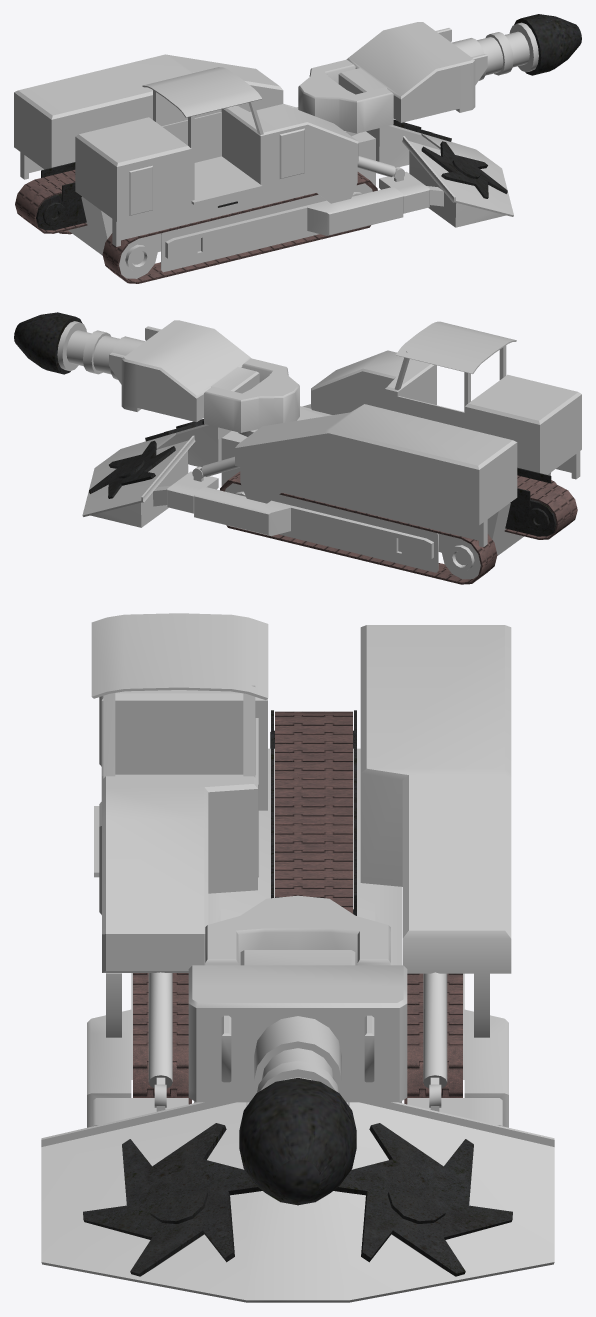
Rendered from teilschnitt_export_triangulated_LOD.dae.
3 views of the same model, one above another, from view 1: azimuth 30°, elevation 25°; view 2: azimuth 150°, elevation 25°; view 3: azimuth 270°, elevation 25° (orthographic). The views are drawn at different scales.
Parts seen in each view (by area): view 1: Body, drill_body, front_shovel, drill, drill_body_rotator, rope, shovel_gear, wheels; view 2: Body, drill_body, front_shovel, drill, drill_body_rotator, rope, shovel_gear, wheels; view 3: Body, front_shovel, drill_body, shovel_gear, drill, drill_body_rotator, rope.
Boxes of the visible parts, x1,y1,x2,y2 form: Body: (14, 54, 443, 272); drill_body: (338, 22, 487, 122); front_shovel: (366, 125, 513, 227); drill: (452, 14, 581, 80); drill_body_rotator: (296, 59, 393, 136); rope: (59, 172, 377, 283); shovel_gear: (393, 119, 507, 198); wheels: (119, 183, 372, 278); Body: (153, 321, 581, 572); drill_body: (109, 320, 259, 422); front_shovel: (82, 424, 231, 527); drill: (14, 312, 144, 379); drill_body_rotator: (204, 358, 310, 436); rope: (220, 471, 556, 584); shovel_gear: (89, 419, 204, 498); wheels: (225, 483, 480, 579); Body: (87, 613, 511, 1127); front_shovel: (41, 1102, 554, 1302); drill_body: (188, 950, 407, 1102); shovel_gear: (83, 1123, 512, 1276); drill: (239, 1016, 356, 1205); drill_body_rotator: (205, 895, 390, 965); rope: (133, 973, 462, 1104).
Size of the model in its own units: 4.77 by 1.44 by 1.93.
